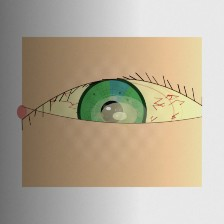corneal_ulcer: (90, 91, 149, 138)
